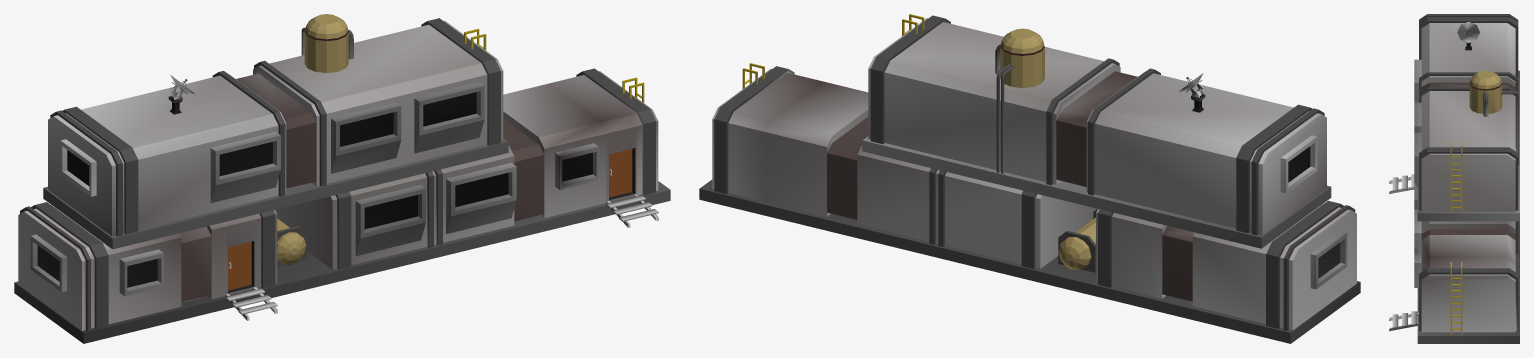
The model's file is edificacao7-2.fbx.
The picture shows the model from 3 angles, left to right: view 1: azimuth 30°, elevation 25°; view 2: azimuth 150°, elevation 25°; view 3: azimuth 270°, elevation 25°; orthographic projection. The views are drawn at different scales.
Parts seen in each view (by area): view 1: edificacao7-2; view 2: edificacao7-2; view 3: edificacao7-2.
Part boxes in pixels (x1,y1,x2,y2): edificacao7-2: (14,14,670,343); edificacao7-2: (699,14,1360,343); edificacao7-2: (1389,14,1519,343).
Bounding box in the file's own units: 2996 × 1070 × 779.
